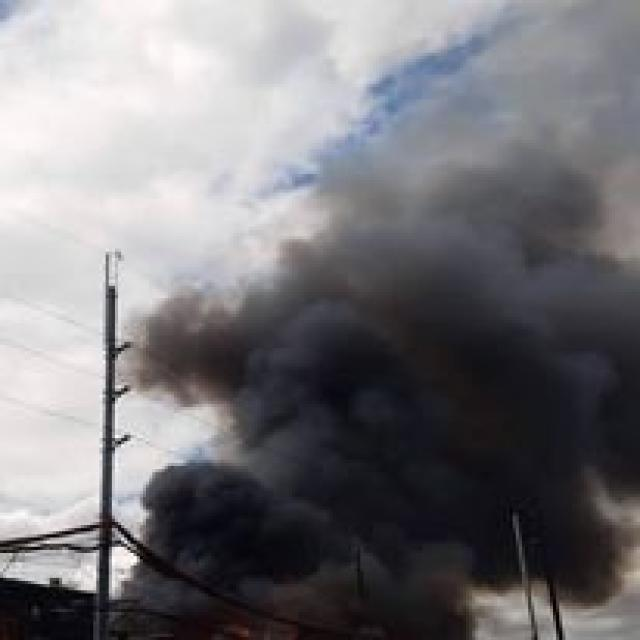Smoke: (112, 161, 640, 640)
